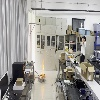fire: (40, 58, 45, 78)
